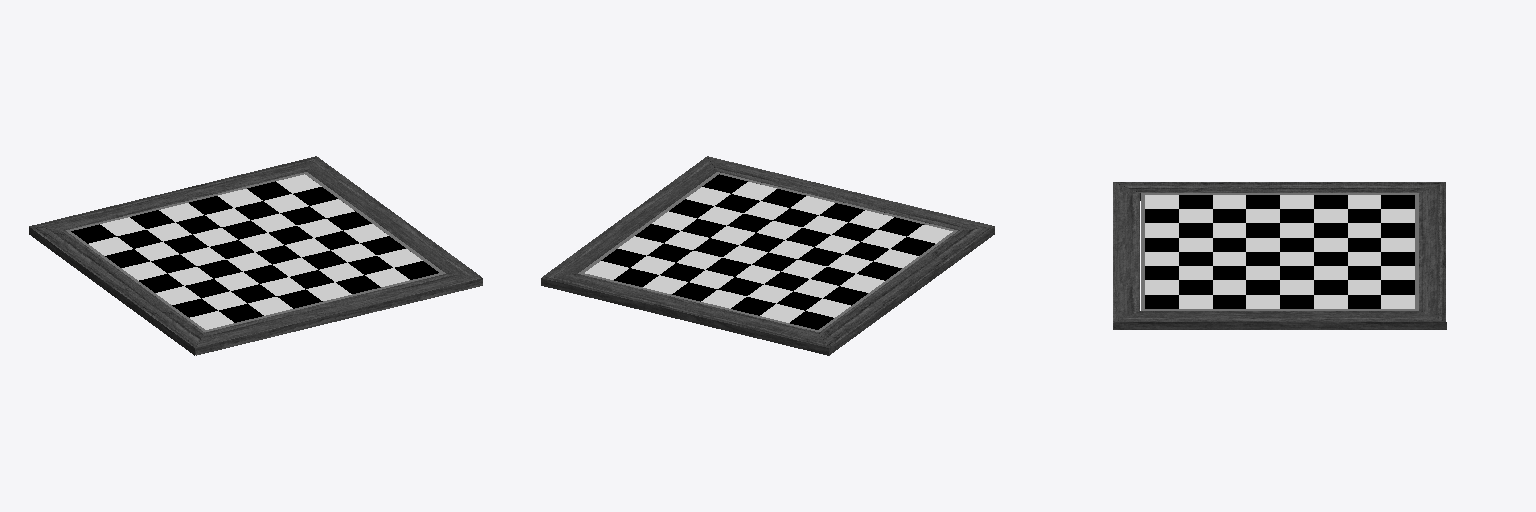
3 views of the same model, side by side, from view 1: azimuth 30°, elevation 25°; view 2: azimuth 150°, elevation 25°; view 3: azimuth 270°, elevation 25° (orthographic).
Visible parts, largest first — view 1: Ajedrez; view 2: Ajedrez; view 3: Ajedrez.
Boxes of the visible parts, <box> form: Ajedrez: <box>29,156,482,355</box>; Ajedrez: <box>541,156,994,355</box>; Ajedrez: <box>1113,182,1446,329</box>.
Size of the model in its own units: 47.14 by 1.22 by 47.16.
4 materials, 2 textured.